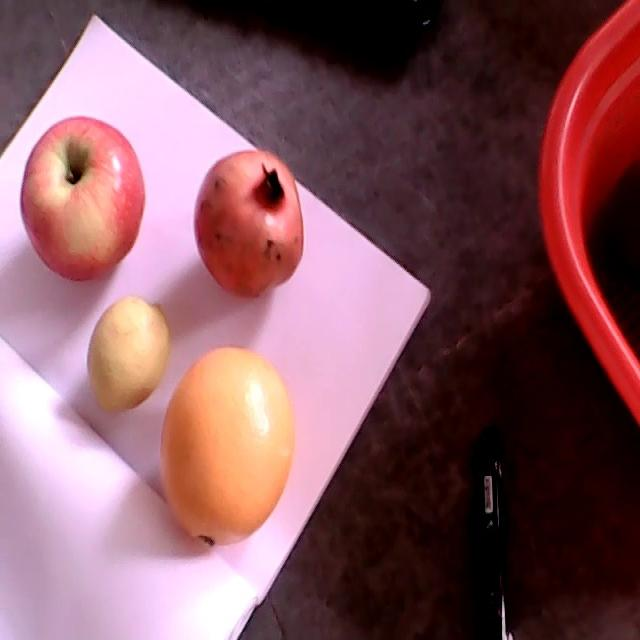apple: (20, 117, 146, 282)
lemon: (88, 298, 171, 416)
orange: (157, 346, 295, 548)
pomegranate: (193, 149, 304, 300)
